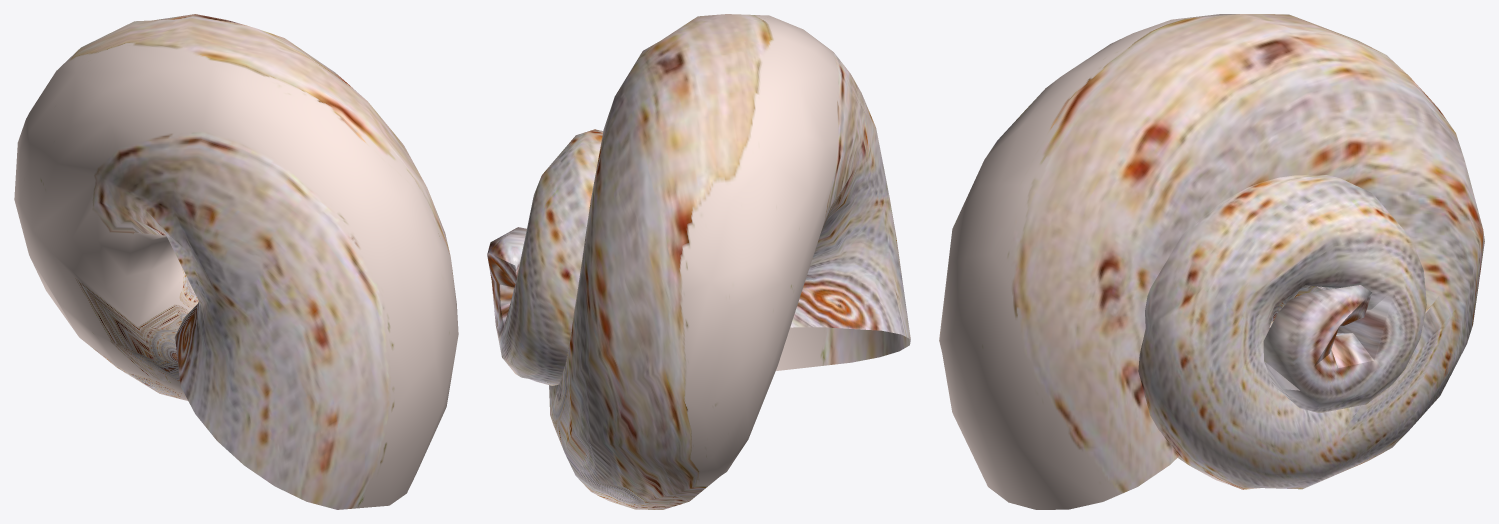
Rendered from Snail.FBX.
3 views of the same model, side by side, from view 1: azimuth 30°, elevation 25°; view 2: azimuth 150°, elevation 25°; view 3: azimuth 270°, elevation 25° (orthographic). The views are drawn at different scales.
Visible parts, largest first — view 1: snail; view 2: snail; view 3: snail.
Part boxes in pixels (<box>): snail: <box>14,14,458,509</box>; snail: <box>487,14,910,509</box>; snail: <box>939,14,1484,509</box>.
Size of the model in its own units: 12.34 by 18.5 by 16.13.
